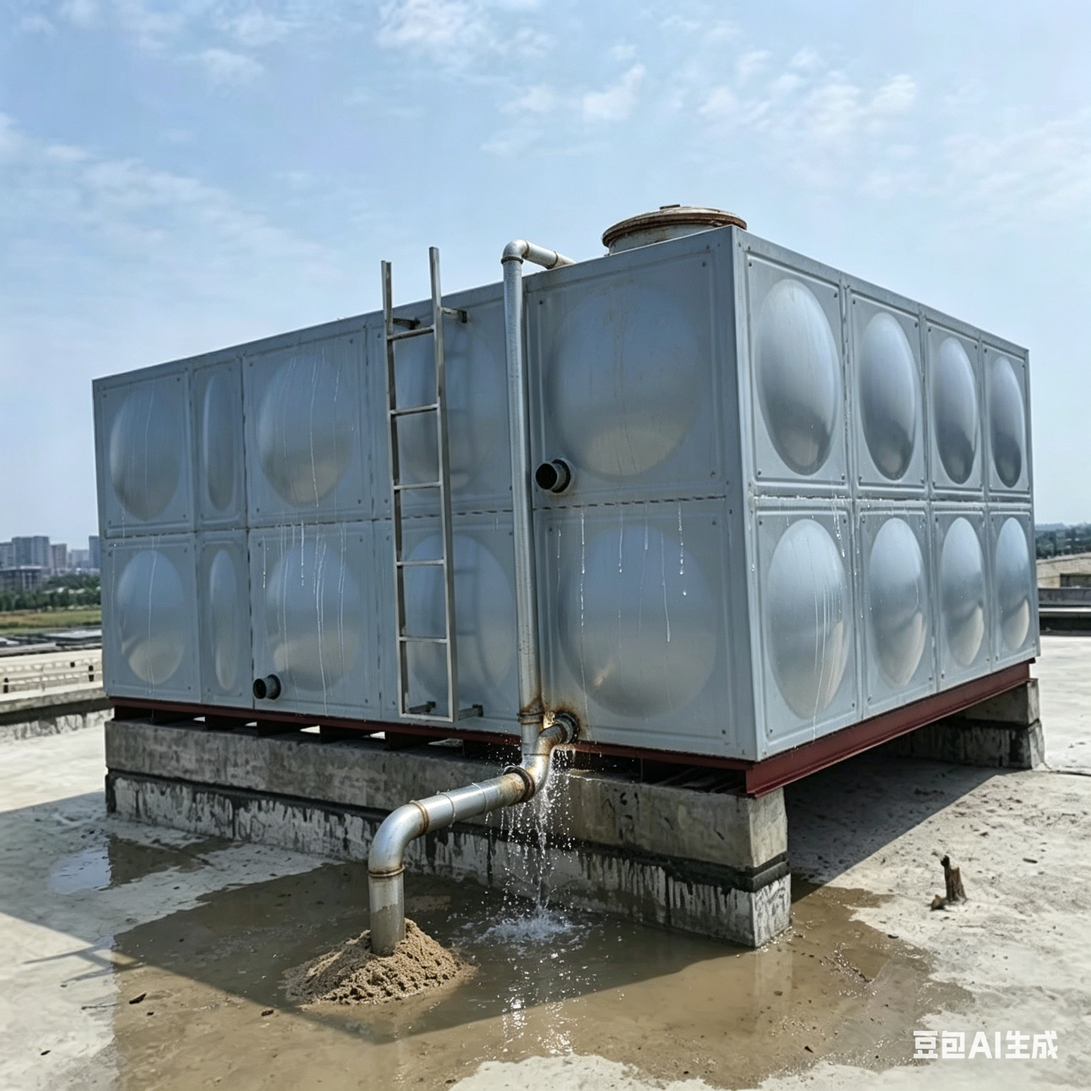Leakage: (116, 927, 489, 1091), (495, 489, 598, 1059), (620, 921, 953, 1067), (241, 864, 473, 925), (38, 834, 174, 900)
